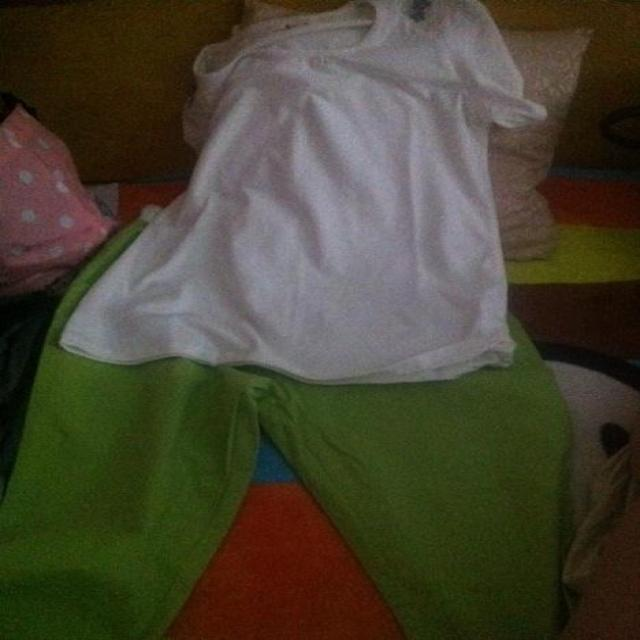short sleeve top: (60, 2, 532, 375)
trousers: (4, 206, 563, 638)
